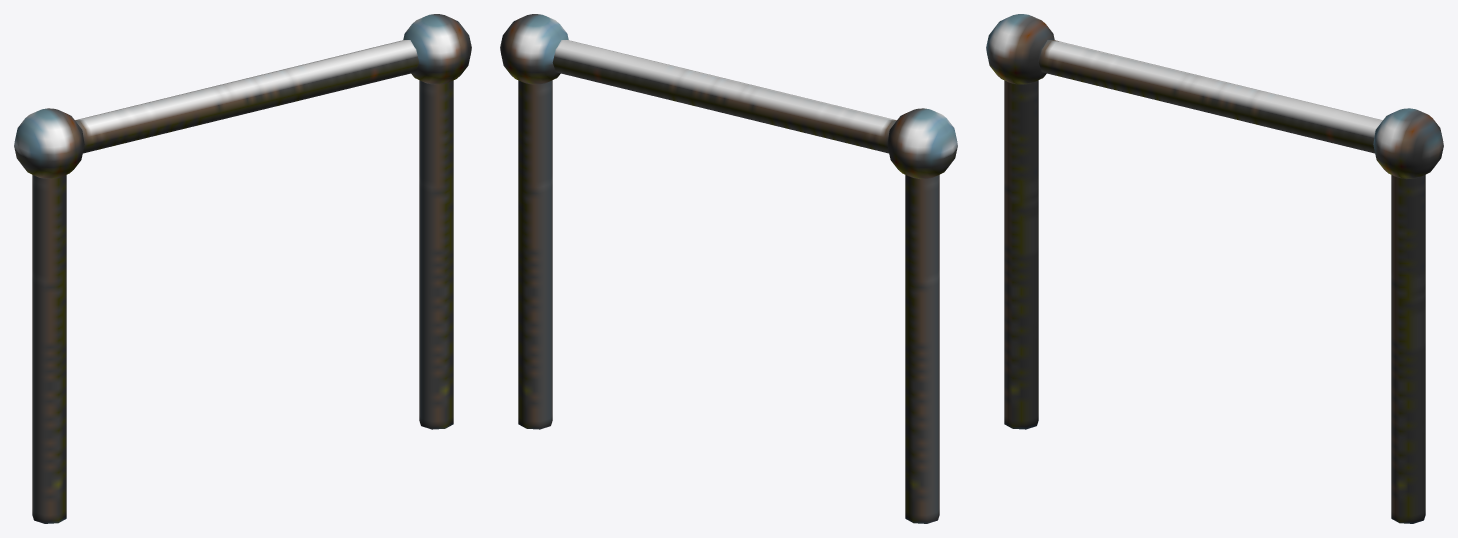
The model's file is rail1.FBX.
3 renders of one model, left to right at view 1: azimuth 30°, elevation 25°; view 2: azimuth 150°, elevation 25°; view 3: azimuth 330°, elevation 25°, orthographic.
Visible parts, largest first — view 1: rail; view 2: rail; view 3: rail.
Part boxes in pixels (left/top/right/bottom): rail: left=14, top=14, right=471, bottom=523; rail: left=500, top=14, right=957, bottom=523; rail: left=986, top=14, right=1443, bottom=523.
Bounding box in the file's own units: 290 × 40 × 250.
